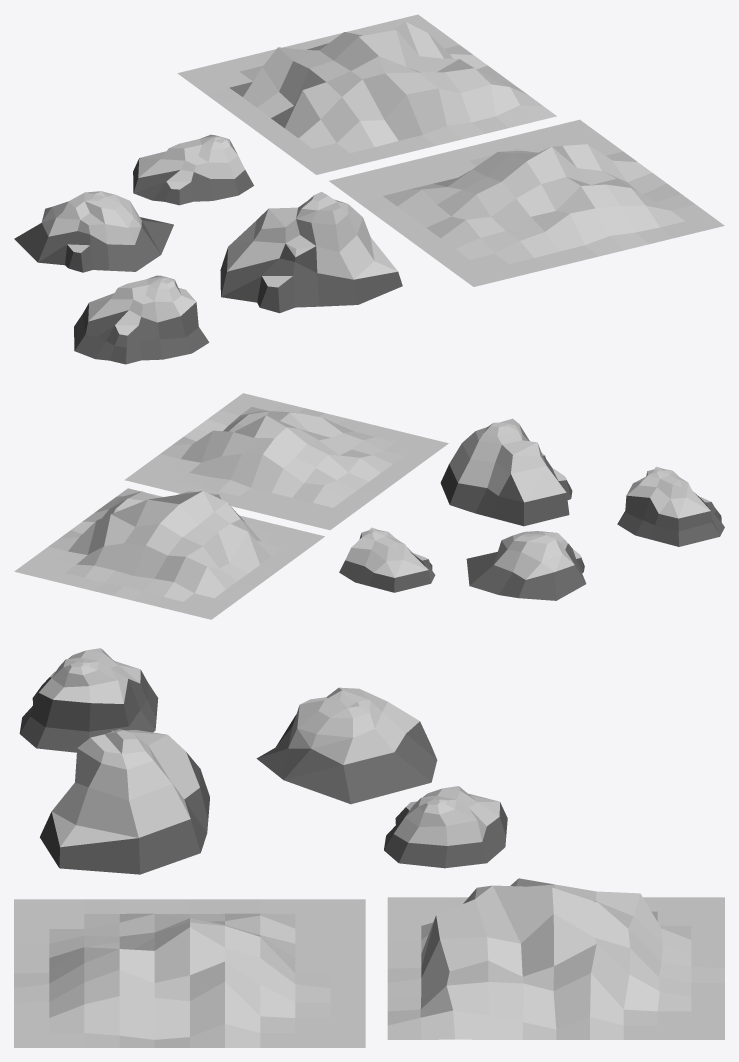
File: Mountains.FBX
3 renders of one model, top to bottom at view 1: azimuth 30°, elevation 25°; view 2: azimuth 150°, elevation 25°; view 3: azimuth 270°, elevation 25°, orthographic. The views are drawn at different scales.
Visible parts, largest first — view 1: Rock_03, Rock_04, Rock_01, Rock_05, Rock_06, Rock_02; view 2: Rock_03, Rock_04, Rock_01, Rock_05, Rock_06, Rock_02; view 3: Rock_03, Rock_04, Rock_01, Rock_05, Rock_06, Rock_02.
Part boxes in pixels (bbox=[...]): Rock_03: bbox=[329, 119, 724, 286]; Rock_04: bbox=[177, 14, 556, 174]; Rock_01: bbox=[220, 192, 402, 313]; Rock_05: bbox=[14, 191, 173, 272]; Rock_06: bbox=[74, 275, 209, 364]; Rock_02: bbox=[133, 134, 253, 205]; Rock_03: bbox=[124, 393, 448, 530]; Rock_04: bbox=[14, 488, 324, 619]; Rock_01: bbox=[440, 418, 572, 526]; Rock_05: bbox=[466, 531, 586, 600]; Rock_06: bbox=[617, 466, 724, 546]; Rock_02: bbox=[339, 527, 435, 592]; Rock_03: bbox=[14, 899, 365, 1047]; Rock_04: bbox=[387, 878, 724, 1039]; Rock_01: bbox=[40, 729, 209, 874]; Rock_05: bbox=[256, 687, 437, 804]; Rock_06: bbox=[19, 648, 158, 752]; Rock_02: bbox=[384, 786, 507, 868].
Bounding box in the file's own units: 122527 × 16807 × 100984.
